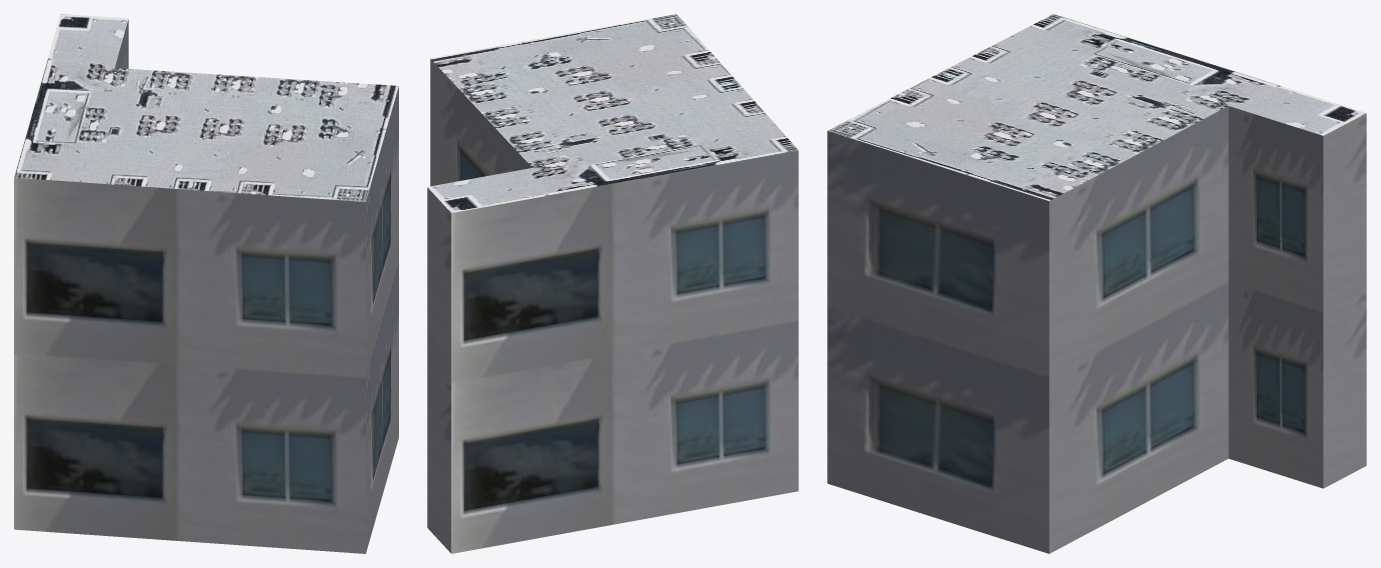
The model's file is ResTex__4604.fbx.
3 views of the same model, side by side, from view 1: azimuth 30°, elevation 25°; view 2: azimuth 150°, elevation 25°; view 3: azimuth 270°, elevation 25° (orthographic). The views are drawn at different scales.
Visible parts, largest first — view 1: CityEngineMaterial_10_m, CityEngineMaterial_m; view 2: CityEngineMaterial_10_m, CityEngineMaterial_m; view 3: CityEngineMaterial_10_m, CityEngineMaterial_m.
Part boxes in pixels (x1,y1,x2,y2): CityEngineMaterial_10_m: (14,19,398,553); CityEngineMaterial_m: (14,14,398,201); CityEngineMaterial_10_m: (427,59,798,553); CityEngineMaterial_m: (427,14,798,212); CityEngineMaterial_10_m: (827,106,1366,553); CityEngineMaterial_m: (827,14,1366,200).
Size of the model in its own units: 6.83 by 6 by 8.31.
Materials: 2 (2 with a texture image).
